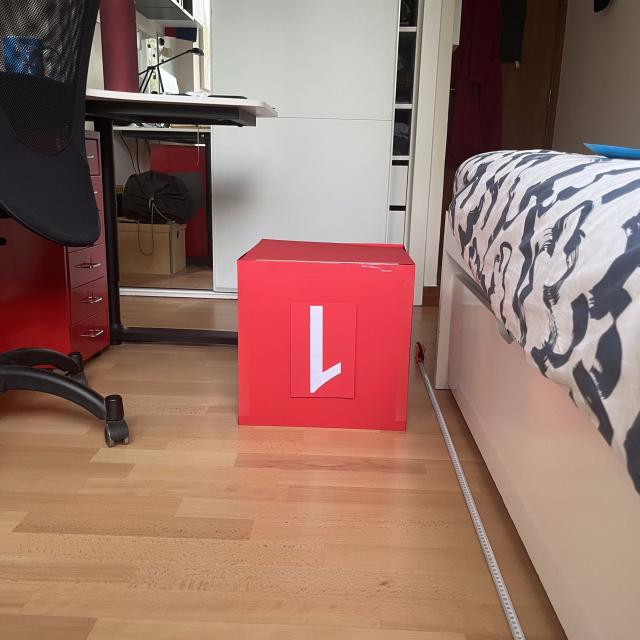box: (232, 234, 418, 433)
